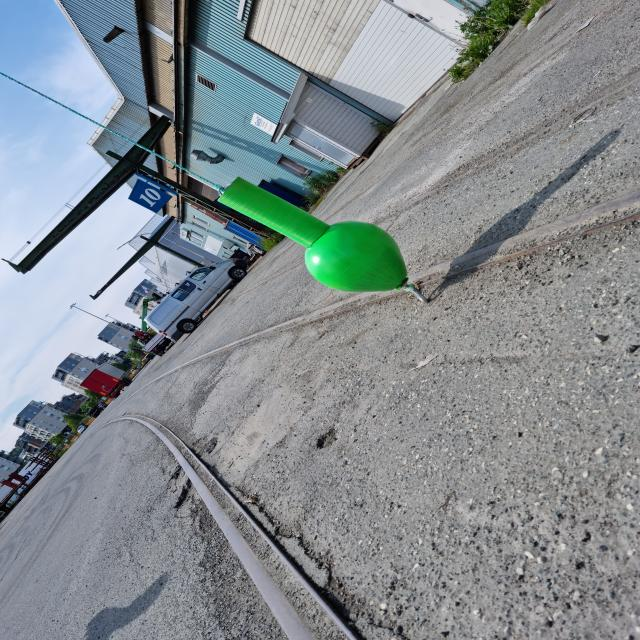green: (216, 178, 407, 292)
